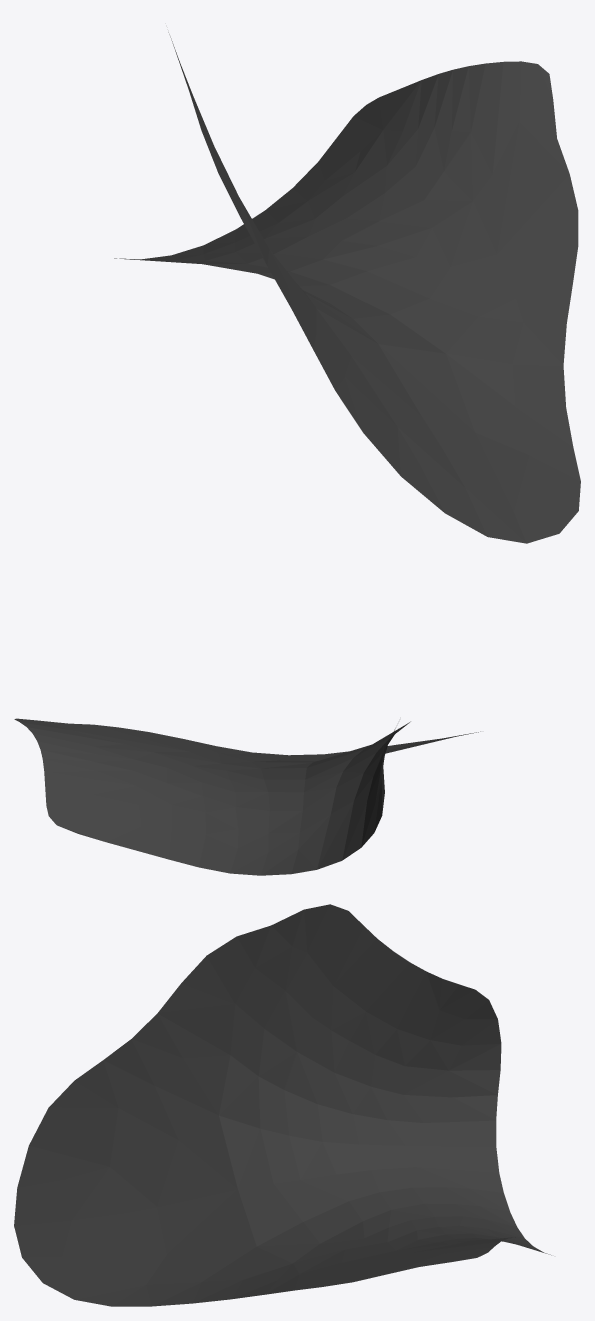
Rendered from Humerus_fossa_olecranon.glb.
3 renders of one model, top to bottom at view 1: azimuth 30°, elevation 25°; view 2: azimuth 150°, elevation 25°; view 3: azimuth 270°, elevation 25°, orthographic. The views are drawn at different scales.
Visible parts, largest first — view 1: Humerus_fossa_olecranon; view 2: Humerus_fossa_olecranon; view 3: Humerus_fossa_olecranon.
Part boxes in pixels (box(x1,y1,x2,y2)): Humerus_fossa_olecranon: box(114, 32, 580, 543); Humerus_fossa_olecranon: box(14, 718, 480, 875); Humerus_fossa_olecranon: box(14, 904, 551, 1306).
Size of the model in its own units: 0.1647 by 0.1277 by 0.2121.
1 material, 1 textured.
